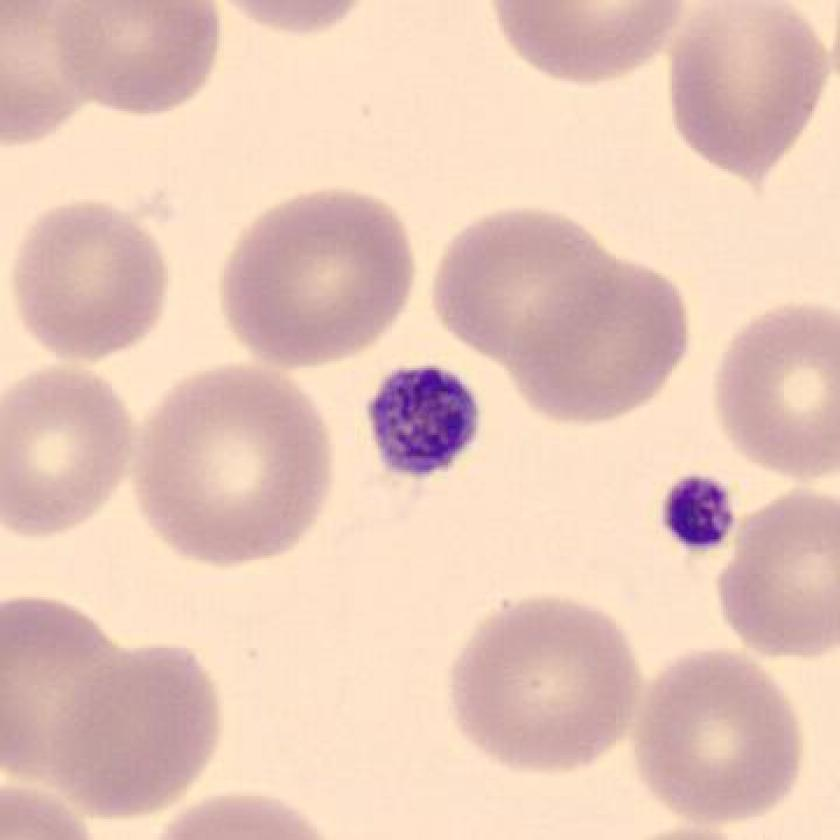platelets: (361, 358, 487, 492), (650, 471, 738, 554)
